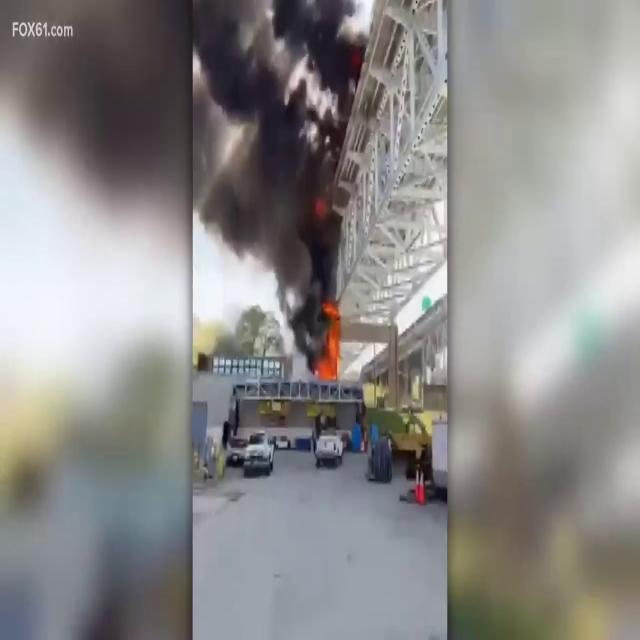Fire: (317, 300, 344, 383)
Smoke: (448, 1, 640, 632), (192, 0, 365, 338)
